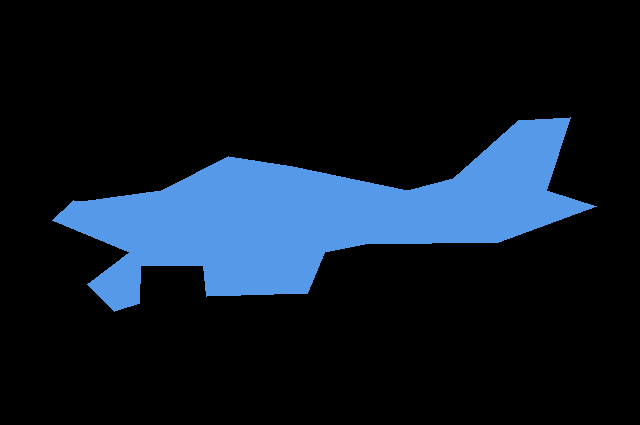Airplane: (52, 117, 597, 312)
